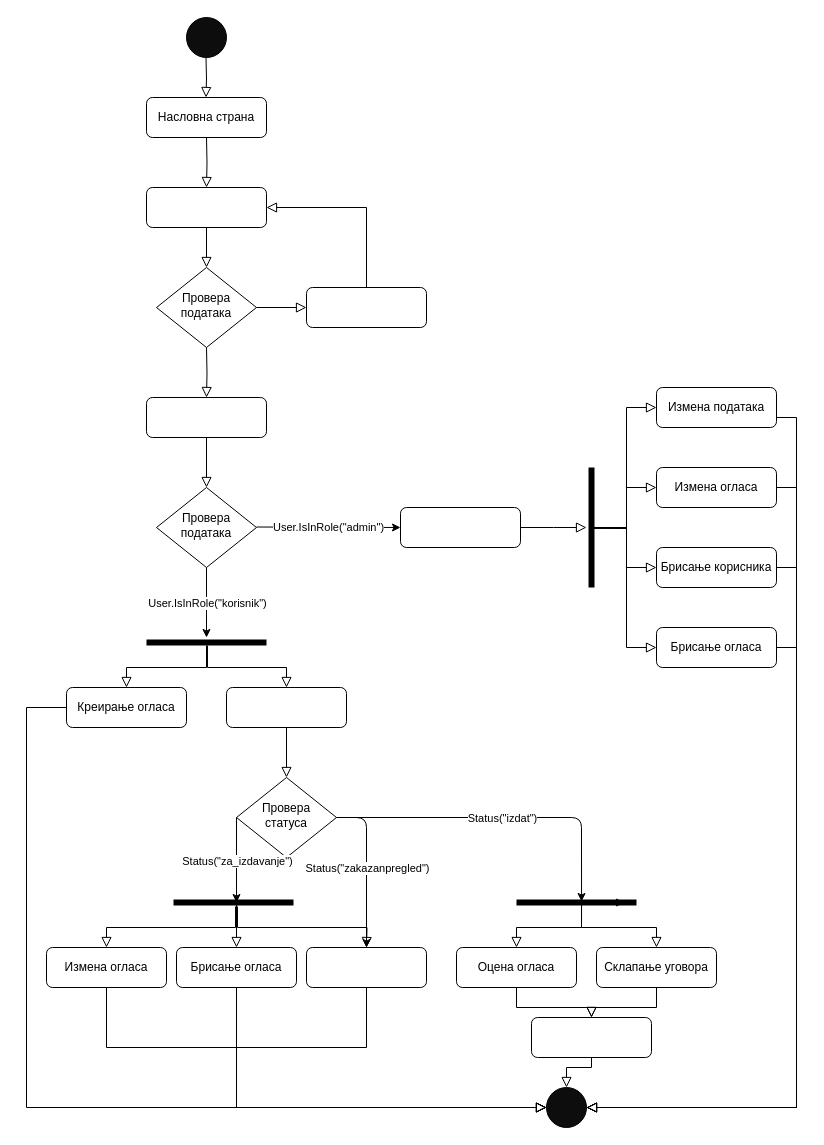
This 824x1145 diagram has some shape labels left out. The centre of each missing label's shape, as x and y in pixels:
"Админ страница" goes at point 460,527.
"Детаљи огласа" goes at point 366,967.
"Оглас неактиван" goes at point 591,1037.
"Погрешни подаци" goes at point 366,307.
"Постојећи оглас" goes at point 286,707.
"Пријава корисника" goes at point 206,207.
"Пријава успешна" goes at point 206,417.
